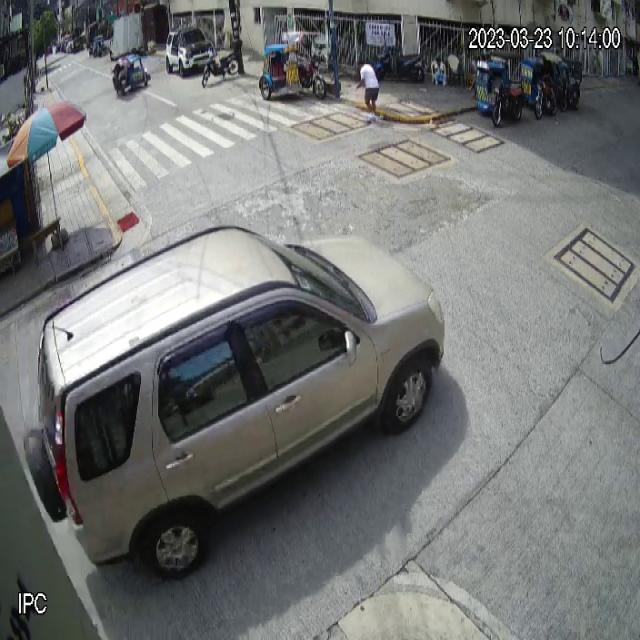Car: (22, 221, 451, 586)
Tricycle: (258, 30, 326, 101), (475, 50, 524, 128)
